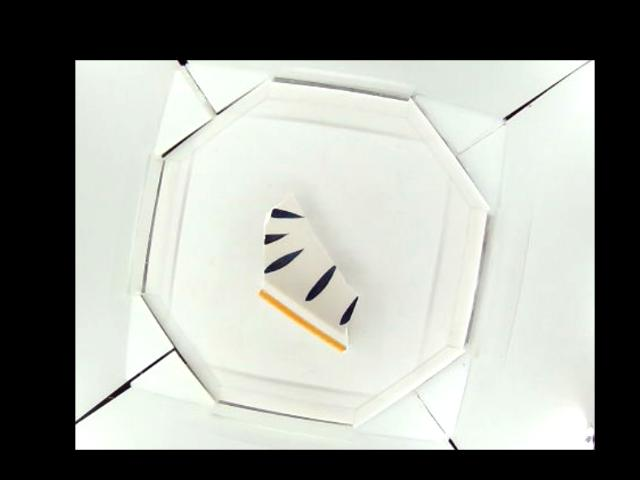China: (256, 189, 362, 347)
